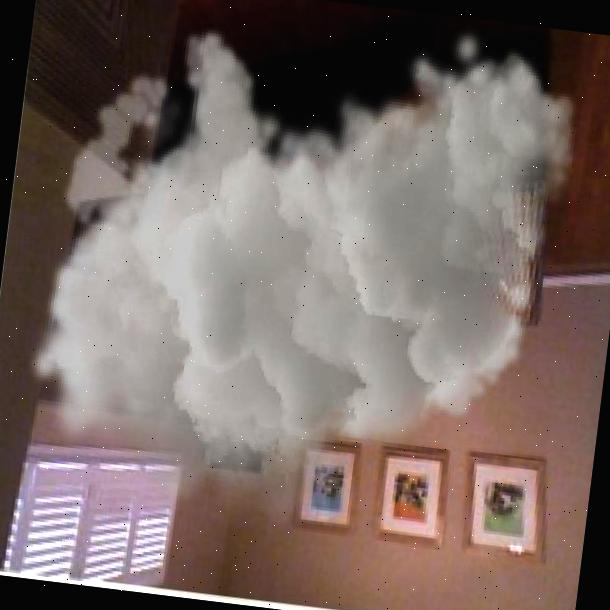smoke: (9, 0, 593, 567)
